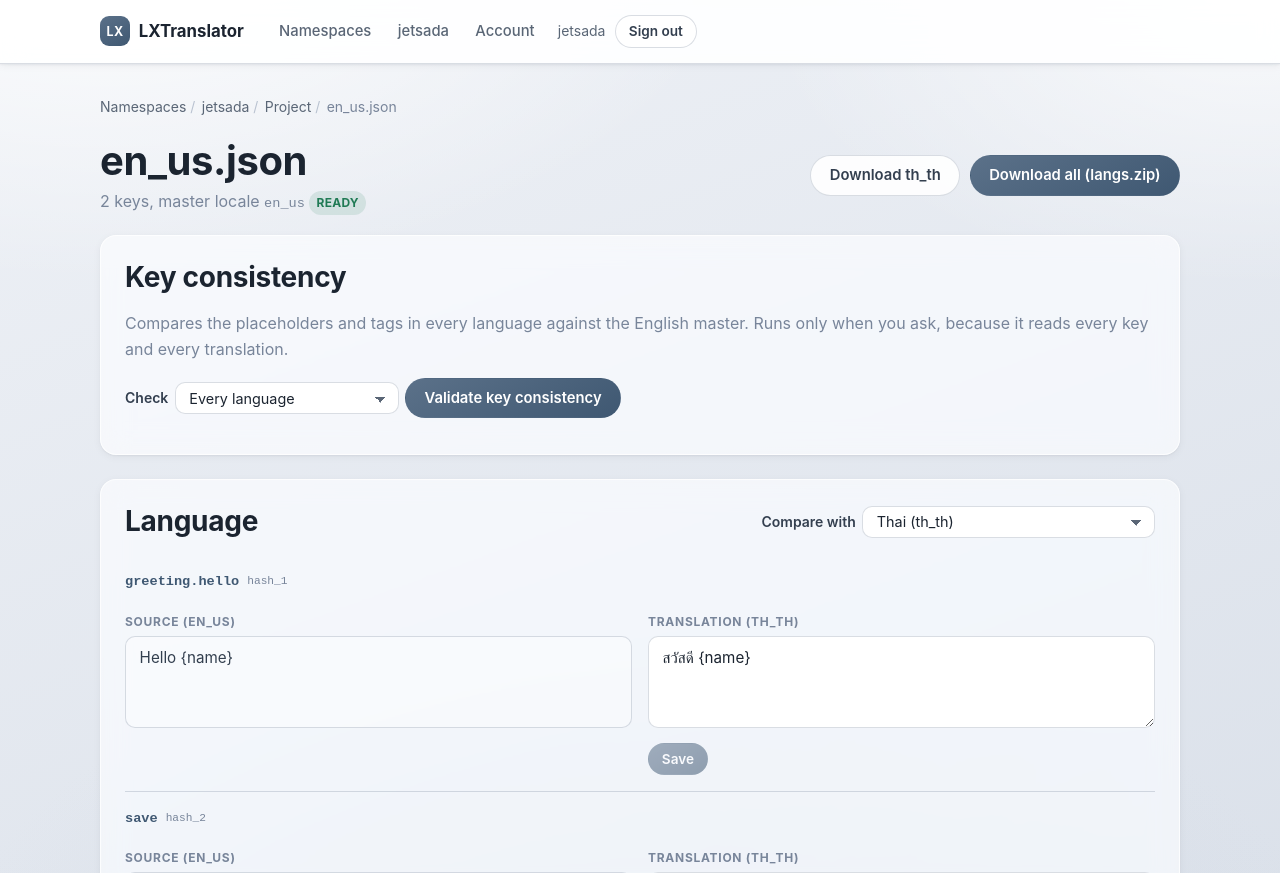
it: partial updates and consistency › the consistency check › renders a failure without losing the editor
The width and height of the screenshot is (1280, 873).
Check: the text "greeting.hello" is shown, box [125,571,239,593]
Click the button "Validate key consistency" at (513, 398), box [405,378,621,418]
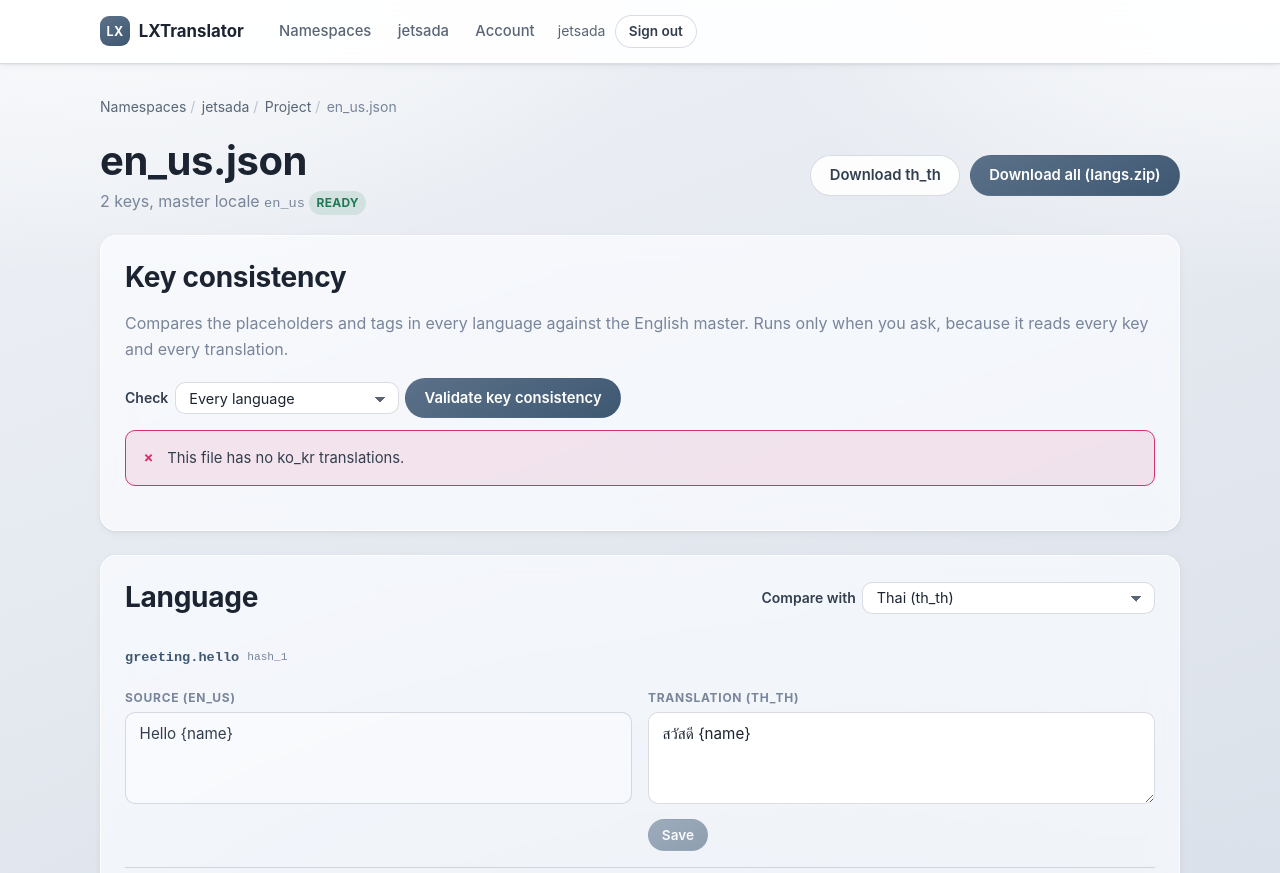
Check: the text "greeting.hello" is shown, box [125,648,239,669]
Check: the text "This file has no ko_kr translations." is shown, box [167,449,404,467]
